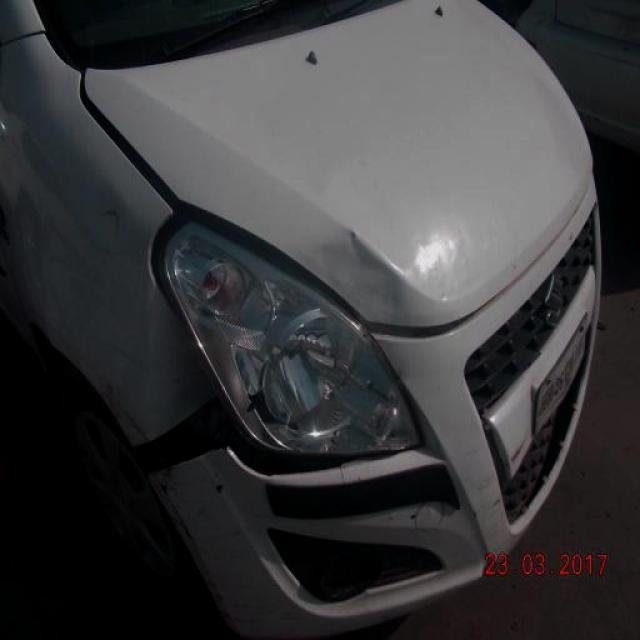car damage: (125, 390, 411, 480), (309, 221, 448, 340), (156, 475, 243, 627), (98, 198, 122, 235)
